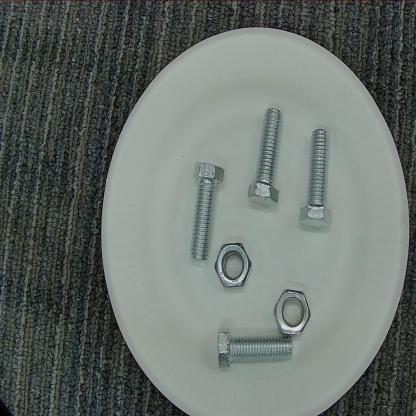FOD: (245, 107, 291, 212), (297, 123, 340, 233), (188, 158, 226, 262), (214, 328, 302, 370), (270, 286, 315, 338), (214, 239, 255, 294)
